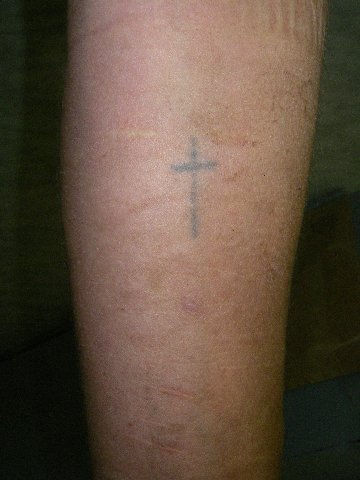tatu9_krest: (163, 136, 233, 237)
